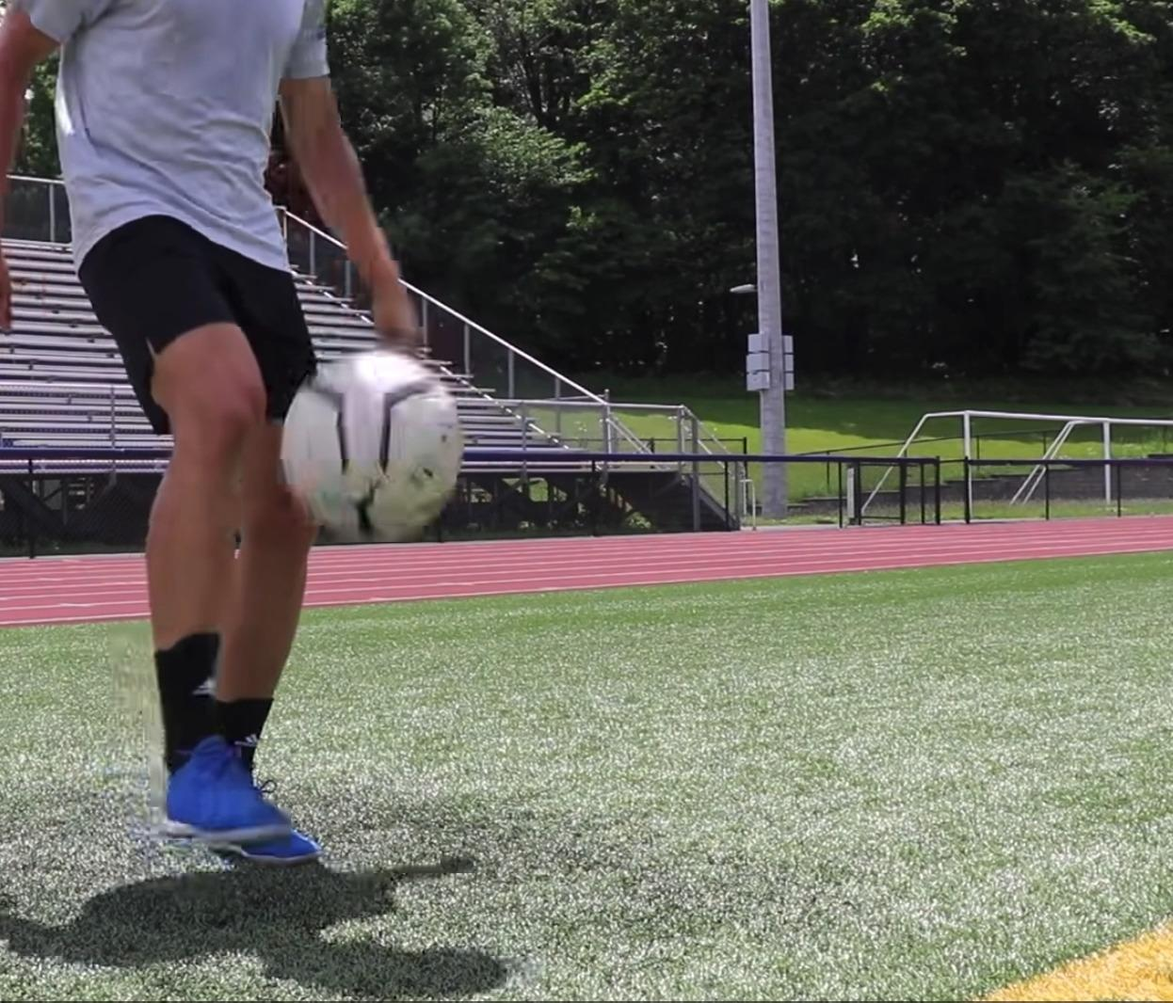ball: (276, 349, 461, 537)
foot: (168, 732, 292, 845)
person: (0, 0, 418, 869)
